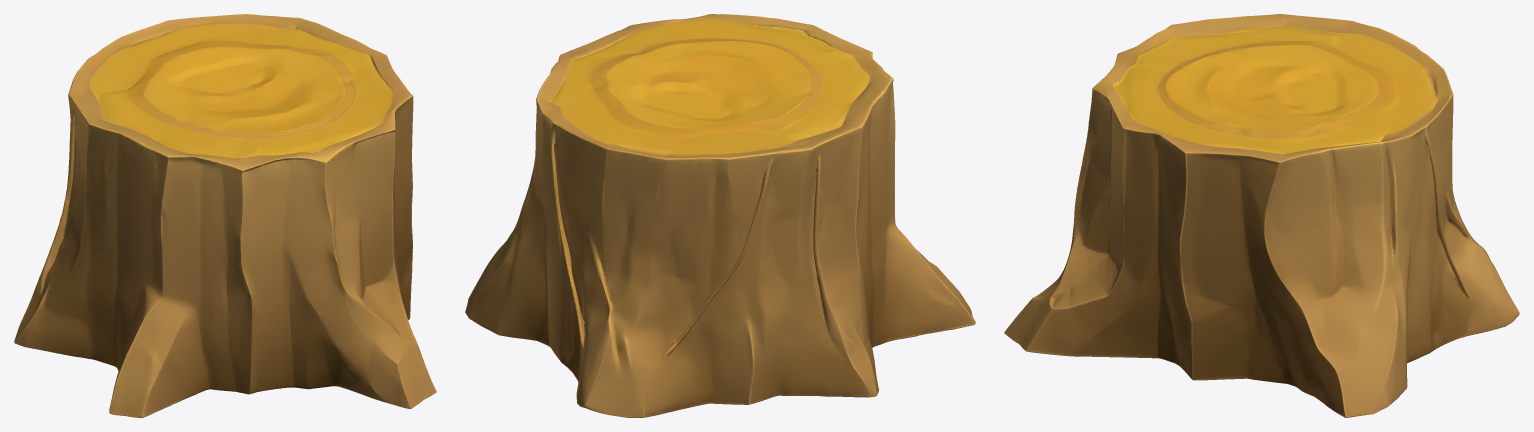
Rendered from base_basic_pbr.fbx.
3 renders of one model, left to right at view 1: azimuth 30°, elevation 25°; view 2: azimuth 150°, elevation 25°; view 3: azimuth 270°, elevation 25°, orthographic. The views are drawn at different scales.
Visible parts, largest first — view 1: geometry_0; view 2: geometry_0; view 3: geometry_0.
Boxes of the visible parts, x1,y1,x2,y2 form: geometry_0: (14, 14, 436, 417); geometry_0: (465, 14, 975, 417); geometry_0: (1004, 14, 1519, 417).
Bounding box in the file's own units: 170 × 96.45 × 190.
1 material, 1 textured.
